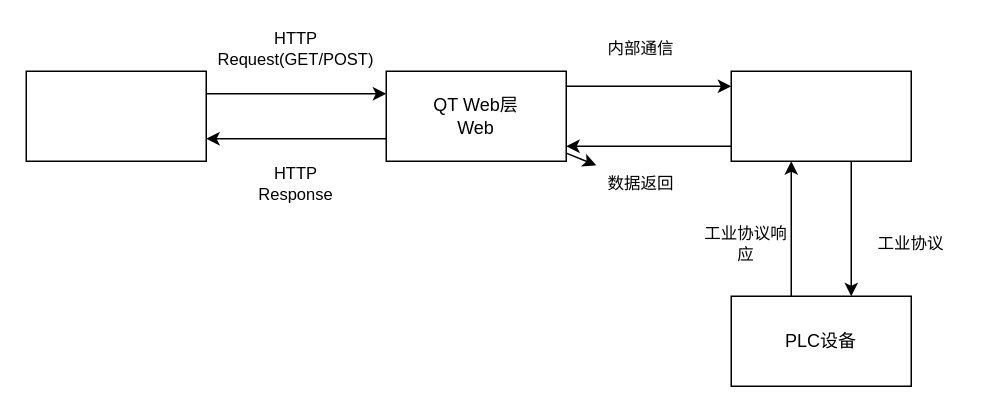
Image size: 983x413. Some labels were removed from this diagram. The box of each missing label's shape, as (x1, y1, x2, y2) in pixels:
QT上位机软件 QT: (730, 70, 911, 161)
前端测试框架 Test Framework: (25, 70, 206, 161)
